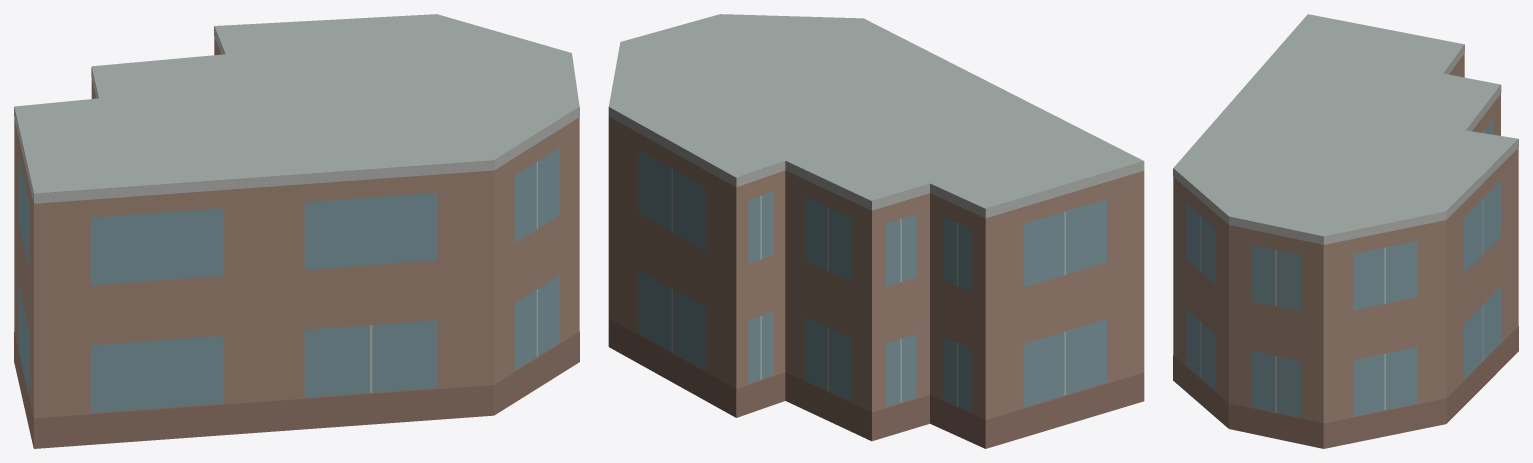
File: survey-upis-32874277.glb
3 views of the same model, side by side, from view 1: azimuth 30°, elevation 25°; view 2: azimuth 150°, elevation 25°; view 3: azimuth 270°, elevation 25° (orthographic). The views are drawn at different scales.
Visible parts, largest first — view 1: survey-upis-32874277.tmp; view 2: survey-upis-32874277.tmp; view 3: survey-upis-32874277.tmp.
Part boxes in pixels (x1=…): survey-upis-32874277.tmp: x1=14, y1=14, x2=579, y2=448; survey-upis-32874277.tmp: x1=608, y1=14, x2=1144, y2=448; survey-upis-32874277.tmp: x1=1173, y1=14, x2=1518, y2=448.
Bounding box in the file's own units: 13.7 × 6.1 × 9.
